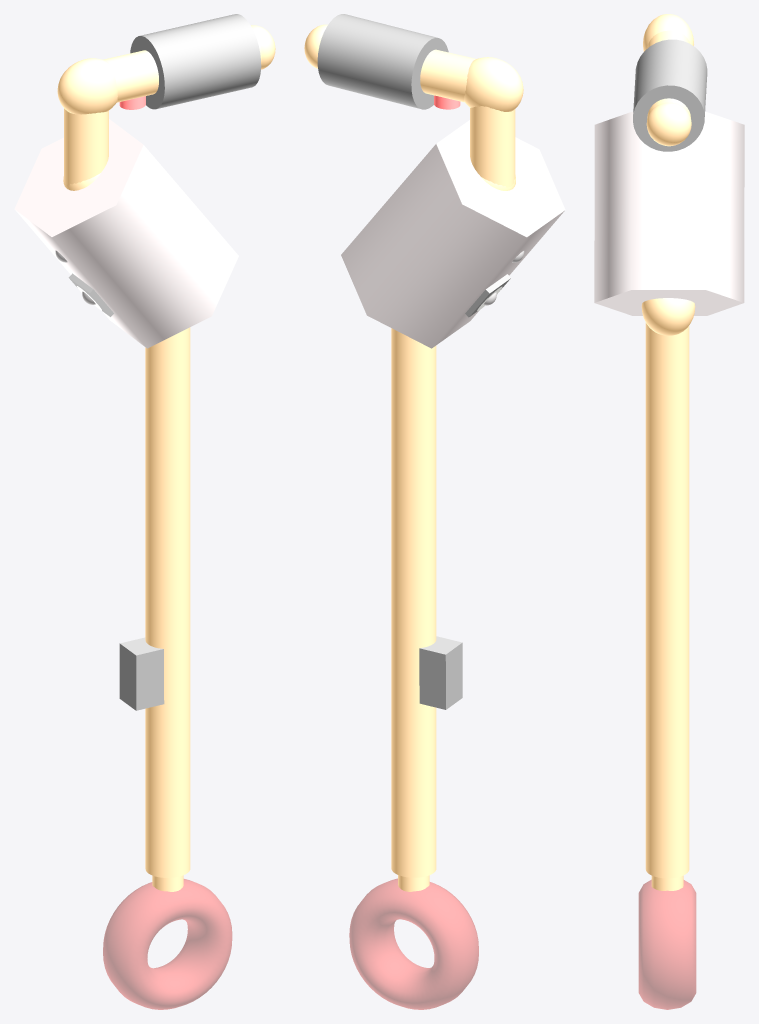
File: icane.gltf
3 views of the same model, side by side, from view 1: azimuth 30°, elevation 25°; view 2: azimuth 150°, elevation 25°; view 3: azimuth 270°, elevation 25° (orthographic).
Parts seen in each view (by area): view 1: Cylinder (×4), body, WHEEL, Box, Sphere; view 2: Cylinder (×4), body, WHEEL, Box, Sphere; view 3: Cylinder (×4), body, WHEEL, Sphere (×3).
Boxes of the visible parts, x1=… form: Cylinder (×4): x1=14, y1=14, x2=261, y2=348; body: x1=145, y1=327, x2=190, y2=877; WHEEL: x1=103, y1=879, x2=232, y2=1009; Box: x1=119, y1=637, x2=164, y2=710; Sphere: x1=57, y1=58, x2=117, y2=114; Cylinder (×4): x1=317, y1=14, x2=565, y2=348; body: x1=391, y1=328, x2=436, y2=877; WHEEL: x1=349, y1=878, x2=478, y2=1009; Box: x1=419, y1=636, x2=462, y2=709; Sphere: x1=464, y1=57, x2=523, y2=111; Cylinder (×4): x1=594, y1=30, x2=744, y2=890; body: x1=645, y1=323, x2=689, y2=878; WHEEL: x1=638, y1=879, x2=696, y2=1009; Sphere (×3): x1=641, y1=14, x2=695, y2=335.
Bounding box in the file's own units: 2.64 × 10.24 × 1.46.
